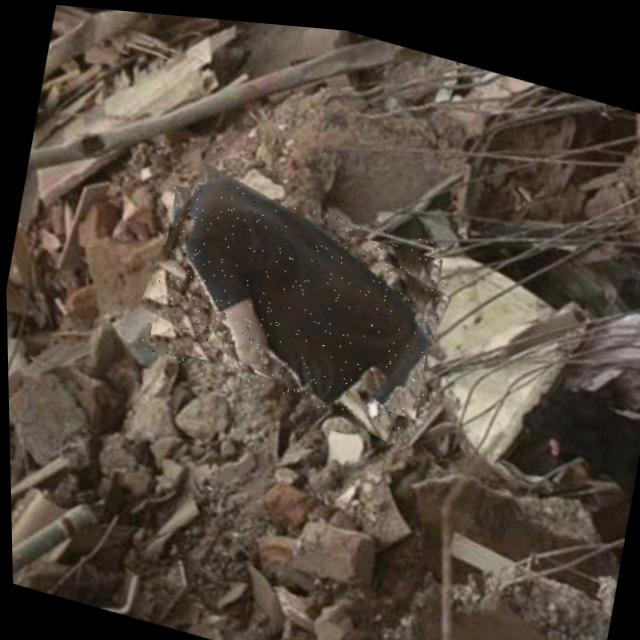Person in Rubble: (134, 162, 456, 430)
